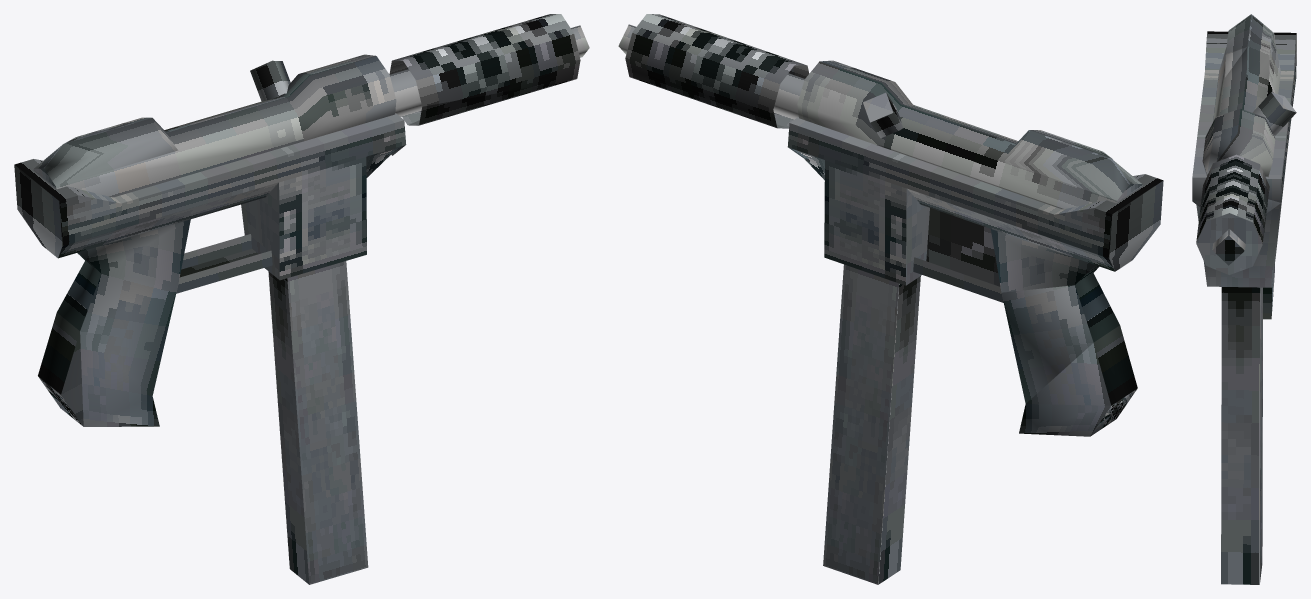
File: Tec9.fbx
3 views of the same model, side by side, from view 1: azimuth 30°, elevation 25°; view 2: azimuth 150°, elevation 25°; view 3: azimuth 270°, elevation 25° (orthographic). The views are drawn at different scales.
Parts seen in each view (by area): view 1: tec9; view 2: tec9; view 3: tec9.
Part boxes in pixels (<box>): tec9: <box>14,14,589,584</box>; tec9: <box>618,14,1163,584</box>; tec9: <box>1192,14,1296,584</box>.
Size of the model in its own units: 40.65 by 36.89 by 7.5.
1 material, 1 textured.
